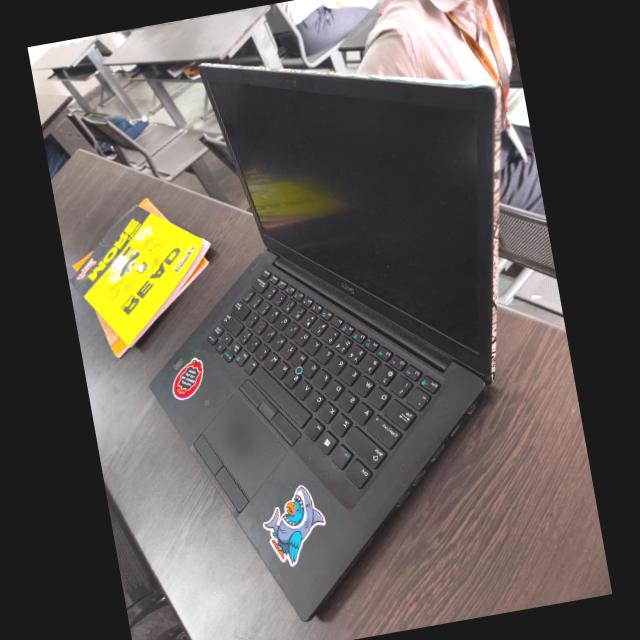laptop: (125, 18, 582, 600)
